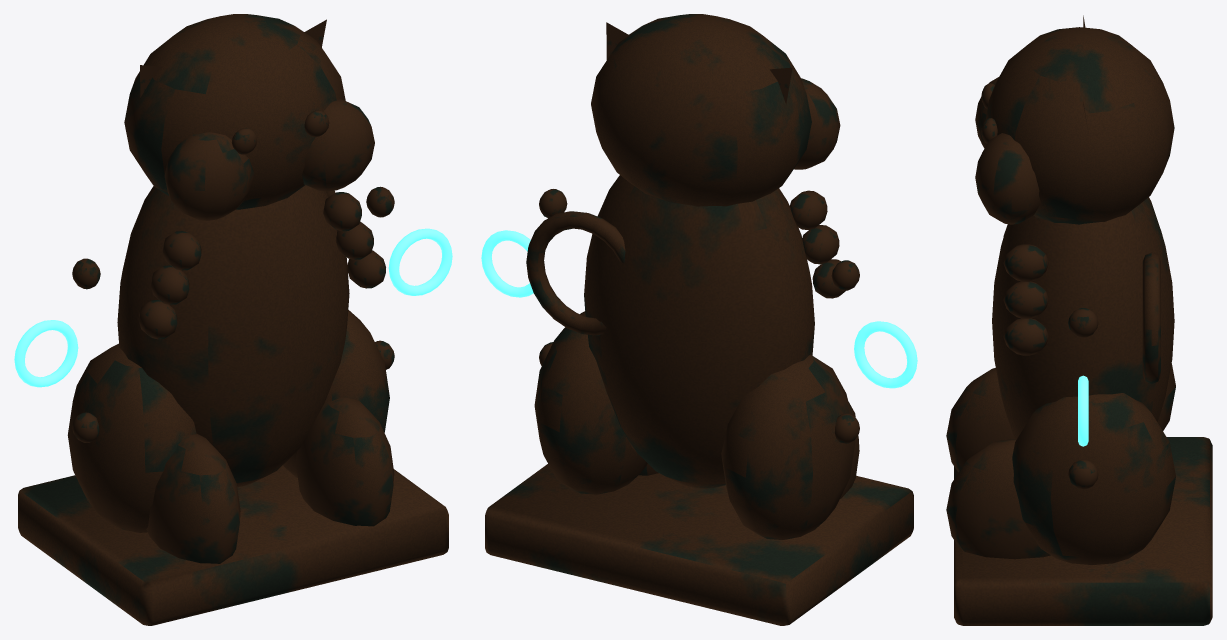
File: guardian_statue.fbx
3 views of the same model, side by side, from view 1: azimuth 30°, elevation 25°; view 2: azimuth 150°, elevation 25°; view 3: azimuth 270°, elevation 25° (orthographic).
Parts seen in each view (by area): view 1: TH10_Guardian_Torso, TH10_Guardian_Plinth, TH10_Guardian_Head, TH10_Guardian_Haunch, TH10_Guardian_Foreleg.001, TH10_Guardian_Foreleg, TH10_Guardian_Cheek, TH10_Guardian_Cheek.001, TH10_Guardian_Haunch.001, TH10_Guardian_Handle.001, TH10_Guardian_Handle, TH10_Guardian_Mane (+8 smaller); view 2: TH10_Guardian_Torso, TH10_Guardian_Plinth, TH10_Guardian_Head, TH10_Guardian_Haunch, TH10_Guardian_Haunch.001, TH10_Guardian_Tail, TH10_Guardian_Cheek, TH10_Guardian_Handle, TH10_Guardian_Handle.001, TH10_Guardian_Mane, TH10_Guardian_Mane.001, TH10_Guardian_Mane.002 (+3 smaller); view 3: TH10_Guardian_Head, TH10_Guardian_Torso, TH10_Guardian_Plinth, TH10_Guardian_Haunch.001, TH10_Guardian_Foreleg.001, TH10_Guardian_Cheek.001, TH10_Guardian_Foreleg, TH10_Guardian_Tail, TH10_Guardian_Mane.003, TH10_Guardian_Mane.005, TH10_Guardian_Mane.004, TH10_Guardian_Handle.001 (+4 smaller).
Part boxes in pixels (x1,y1,x2,y2): TH10_Guardian_Torso: (117,185,349,486); TH10_Guardian_Plinth: (18,465,448,625); TH10_Guardian_Head: (124,14,345,209); TH10_Guardian_Haunch: (67,343,196,532); TH10_Guardian_Foreleg.001: (296,397,394,526); TH10_Guardian_Foreleg: (146,433,240,563); TH10_Guardian_Cheek: (164,132,253,220); TH10_Guardian_Cheek.001: (302,99,374,191); TH10_Guardian_Haunch.001: (283,310,389,477); TH10_Guardian_Handle.001: (388,228,452,295); TH10_Guardian_Handle: (14,320,78,387); TH10_Guardian_Mane: (162,231,201,270); TH10_Guardian_Torso: (584,175,814,488); TH10_Guardian_Plinth: (485,464,913,625); TH10_Guardian_Head: (591,14,811,206); TH10_Guardian_Haunch: (721,354,855,539); TH10_Guardian_Haunch.001: (534,311,647,494); TH10_Guardian_Tail: (526,211,625,335); TH10_Guardian_Cheek: (794,78,840,169); TH10_Guardian_Handle: (854,321,917,388); TH10_Guardian_Handle.001: (481,230,533,297); TH10_Guardian_Mane: (790,190,827,229); TH10_Guardian_Mane.001: (802,225,839,264); TH10_Guardian_Mane.002: (812,259,845,298); TH10_Guardian_Head: (985,27,1174,224); TH10_Guardian_Torso: (992,197,1174,439); TH10_Guardian_Plinth: (954,437,1212,625); TH10_Guardian_Haunch.001: (1012,393,1175,564); TH10_Guardian_Foreleg.001: (946,439,1050,559); TH10_Guardian_Cheek.001: (975,133,1040,224); TH10_Guardian_Foreleg: (946,368,1014,472); TH10_Guardian_Tail: (1142,252,1160,383); TH10_Guardian_Mane.003: (1003,244,1048,281); TH10_Guardian_Mane.005: (1003,318,1048,355); TH10_Guardian_Mane.004: (1003,281,1048,318); TH10_Guardian_Handle.001: (1078,375,1088,446).
Bounding box in the file's own units: 0.654 × 0.75 × 0.35.
Materials: 2 (1 with a texture image).
